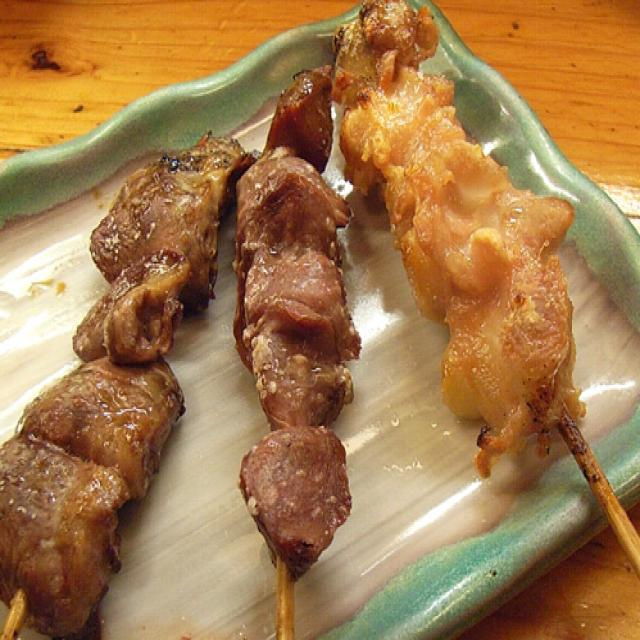烧串烤肉: (0, 89, 640, 640)
